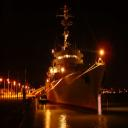Portanaves: (35, 1, 112, 116)
